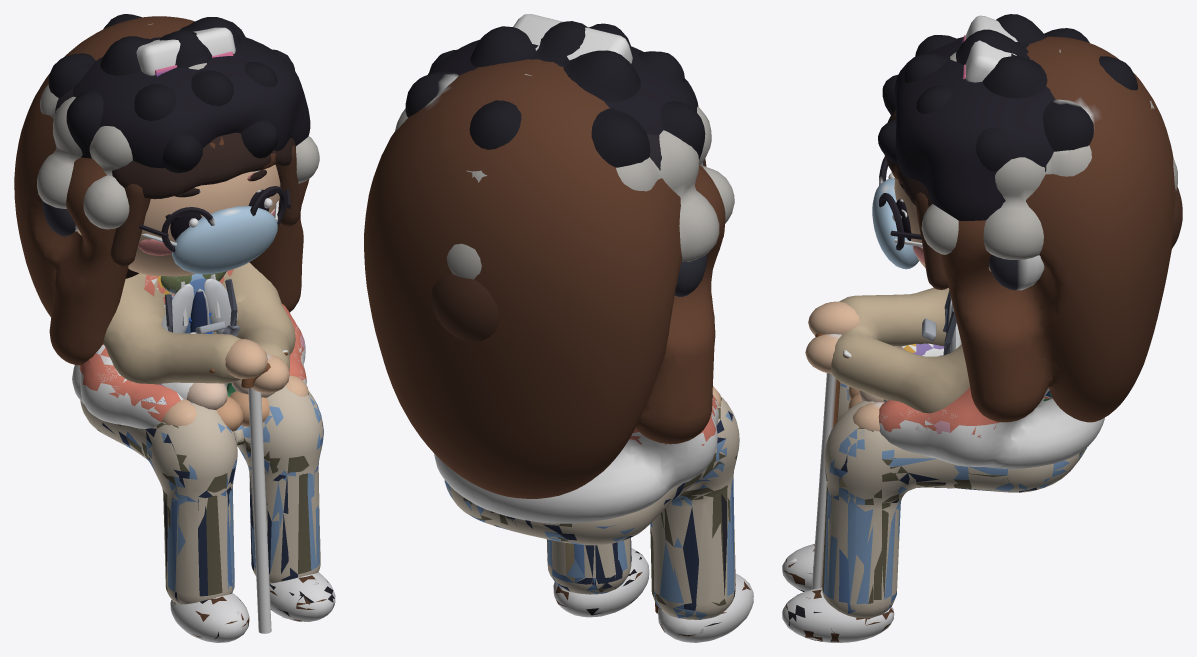
Rendered from people.glb.
The picture shows the model from 3 angles, left to right: view 1: azimuth 30°, elevation 25°; view 2: azimuth 150°, elevation 25°; view 3: azimuth 270°, elevation 25°; orthographic projection. The views are drawn at different scales.
Visible parts, largest first — view 1: person_auntie, person_elder, person_woman, person_doctor_m, person_teen, person_doctor_f, person_man_mask, person_nurse; view 2: person_woman, person_auntie, person_teen, person_doctor_f, person_doctor_m, person_elder, person_nurse, person_man_mask; view 3: person_woman, person_elder, person_doctor_m, person_auntie, person_teen, person_doctor_f, person_man_mask, person_nurse.
Boxes of the visible parts, <box> form: person_auntie: <box>75,132,335,642</box>; person_elder: <box>37,23,326,637</box>; person_woman: <box>14,16,334,639</box>; person_doctor_m: <box>73,34,334,641</box>; person_teen: <box>42,14,308,621</box>; person_doctor_f: <box>72,145,323,630</box>; person_man_mask: <box>55,88,322,608</box>; person_nurse: <box>103,27,304,362</box>; person_woman: <box>364,59,739,641</box>; person_auntie: <box>446,160,753,642</box>; person_teen: <box>405,21,727,603</box>; person_doctor_f: <box>431,159,750,640</box>; person_doctor_m: <box>428,39,734,626</box>; person_elder: <box>395,74,750,636</box>; person_nurse: <box>513,14,632,63</box>; person_man_mask: <box>565,134,714,582</box>; person_woman: <box>784,36,1175,640</box>; person_elder: <box>784,49,1177,641</box>; person_doctor_m: <box>788,37,1098,628</box>; person_auntie: <box>782,109,1086,642</box>; person_teen: <box>788,14,1137,569</box>; person_doctor_f: <box>787,186,1182,637</box>; person_man_mask: <box>806,166,1052,574</box>; person_nurse: <box>893,15,1017,433</box>.
Bounding box in the file's own units: 0.6074 × 1.2 × 0.7493.
